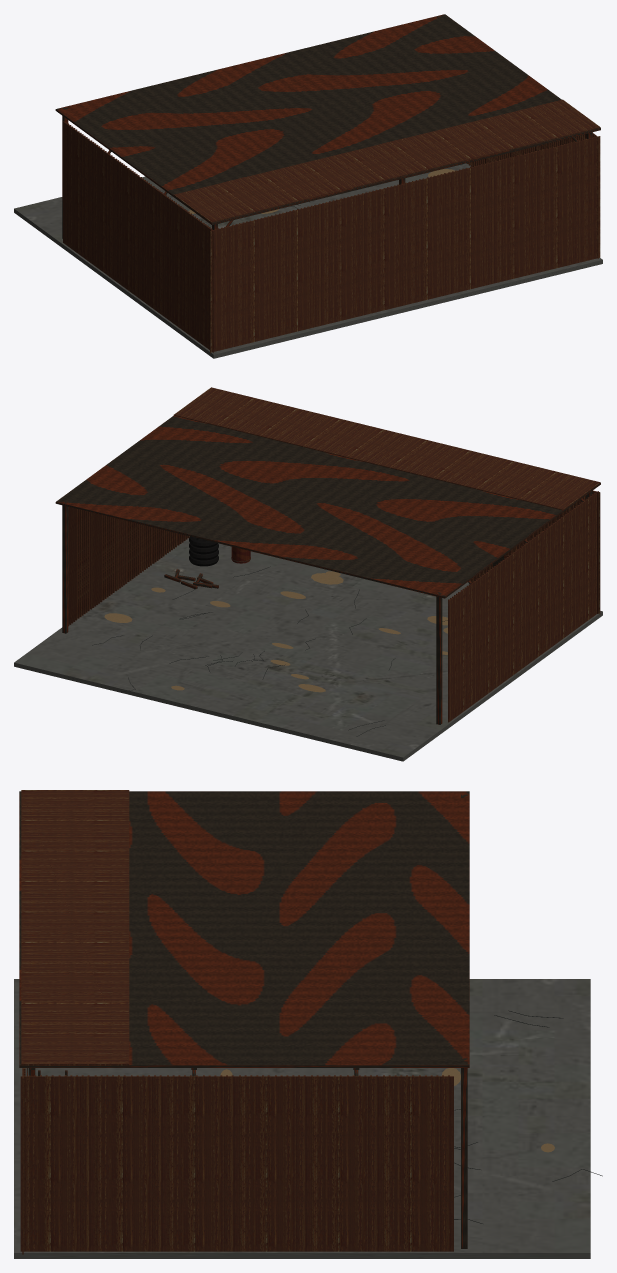
The model's file is grit-garage-v3.glb.
3 renders of one model, top to bottom at view 1: azimuth 30°, elevation 25°; view 2: azimuth 150°, elevation 25°; view 3: azimuth 270°, elevation 25°, orthographic. The views are drawn at different scales.
Visible parts, largest first — view 1: 02 Corrugated walls - Patched galvanized iron, Workshop storage shelving, 03 Structural frame - Patched galvanized iron, 01 Concrete floor - Oil stained concrete, 03 Structural frame - Oxidized frame; view 2: 01 Concrete floor - Oil stained concrete, Workshop storage shelving, 02 Corrugated walls - Patched galvanized iron, 03 Structural frame - Patched galvanized iron, 03 Structural frame - Oxidized frame, 01 Concrete floor - Settled garage dust, 05 Tyres crates and drums - Old rubber, 01 Concrete floor - Oily tools; view 3: Workshop storage shelving, 02 Corrugated walls - Patched galvanized iron, 01 Concrete floor - Oil stained concrete, 03 Structural frame - Patched galvanized iron, 03 Structural frame - Oxidized frame.
Boxes of the visible parts, x1,y1,x2,y2 form: 02 Corrugated walls - Patched galvanized iron: (63,121,600,353); Workshop storage shelving: (55,14,600,224); 03 Structural frame - Patched galvanized iron: (173,99,600,222); 01 Concrete floor - Oil stained concrete: (14,163,602,358); 03 Structural frame - Oxidized frame: (62,16,592,238); 01 Concrete floor - Oil stained concrete: (14,536,602,761); Workshop storage shelving: (55,415,600,598); 02 Corrugated walls - Patched galvanized iron: (68,490,600,722); 03 Structural frame - Patched galvanized iron: (173,387,600,510); 03 Structural frame - Oxidized frame: (62,491,592,724); 01 Concrete floor - Settled garage dust: (104,571,447,692); 05 Tyres crates and drums - Old rubber: (189,536,218,566); 01 Concrete floor - Oily tools: (92,566,447,736); Workshop storage shelving: (19,791,469,1076); 02 Corrugated walls - Patched galvanized iron: (20,1068,453,1254); 01 Concrete floor - Oil stained concrete: (14,979,590,1258); 03 Structural frame - Patched galvanized iron: (21,790,129,1065); 03 Structural frame - Oxidized frame: (28,794,467,1248).
Bounding box in the file's own units: 18.03 × 5.97 × 16.35.
Materials: 10 (9 with a texture image).
